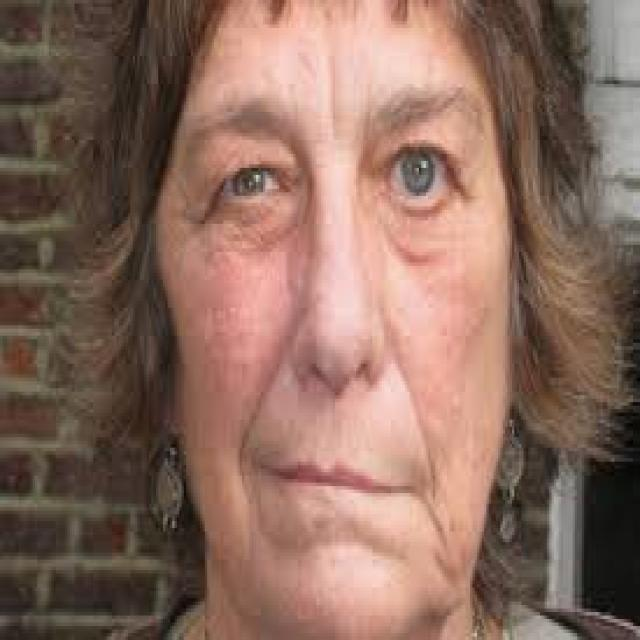stroke_face: (139, 0, 556, 640)
